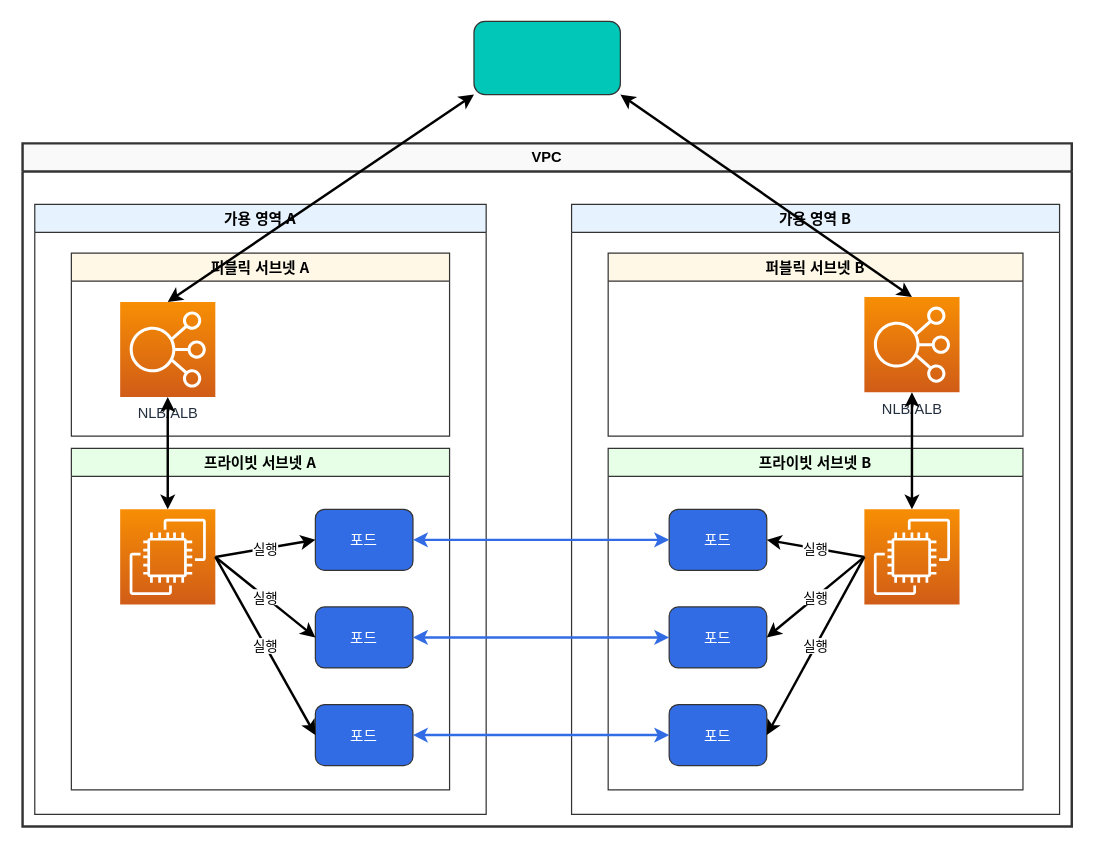
Image size: 1093x849. Some labels were removed from this diagram. Each missing label, with the centre of its shape:
EKS 노드 A: pixel 167 556
EKS 노드 B: pixel 911 556
인터넷: pixel 546 57
